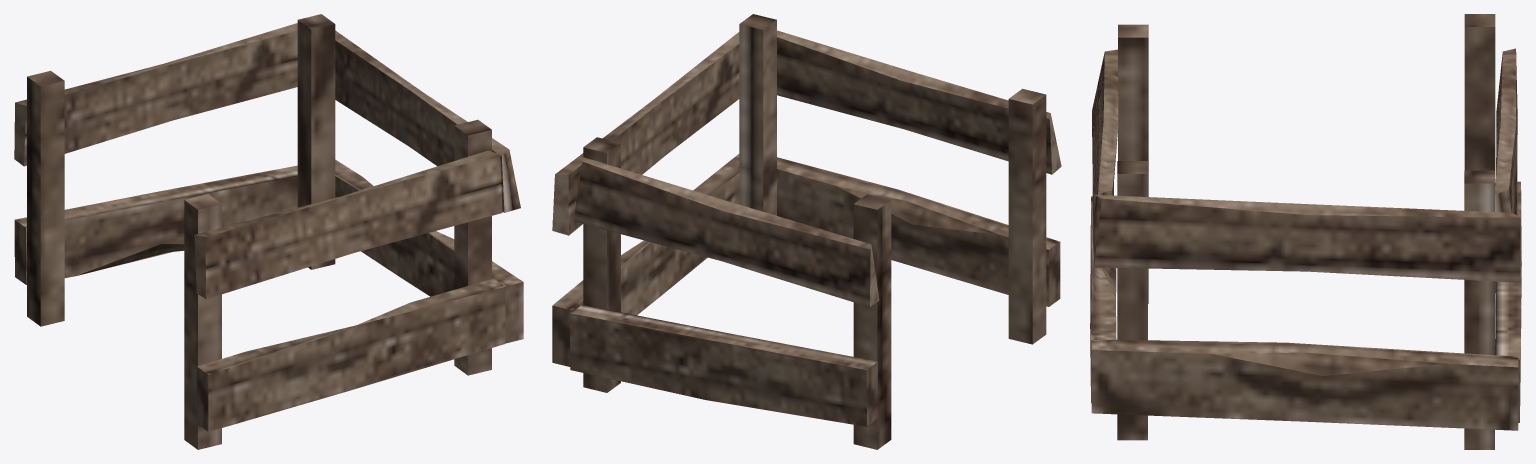
The model's file is wooden_box_4.fbx.
The picture shows the model from 3 angles, left to right: view 1: azimuth 30°, elevation 25°; view 2: azimuth 150°, elevation 25°; view 3: azimuth 270°, elevation 25°; orthographic projection. The views are drawn at different scales.
Visible parts, largest first — view 1: Wooden_box_4; view 2: Wooden_box_4; view 3: Wooden_box_4.
Boxes of the visible parts, <box> form: Wooden_box_4: <box>14,14,523,449</box>; Wooden_box_4: <box>552,14,1061,449</box>; Wooden_box_4: <box>1090,14,1521,449</box>.
Size of the model in its own units: 130 by 97.23 by 138.
